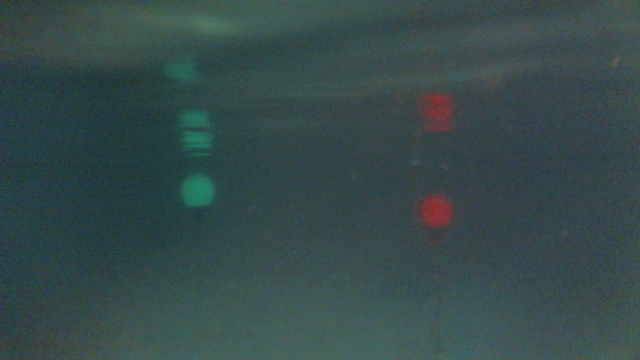buoy_green: (179, 170, 215, 225)
buoy_red: (417, 192, 450, 238)
